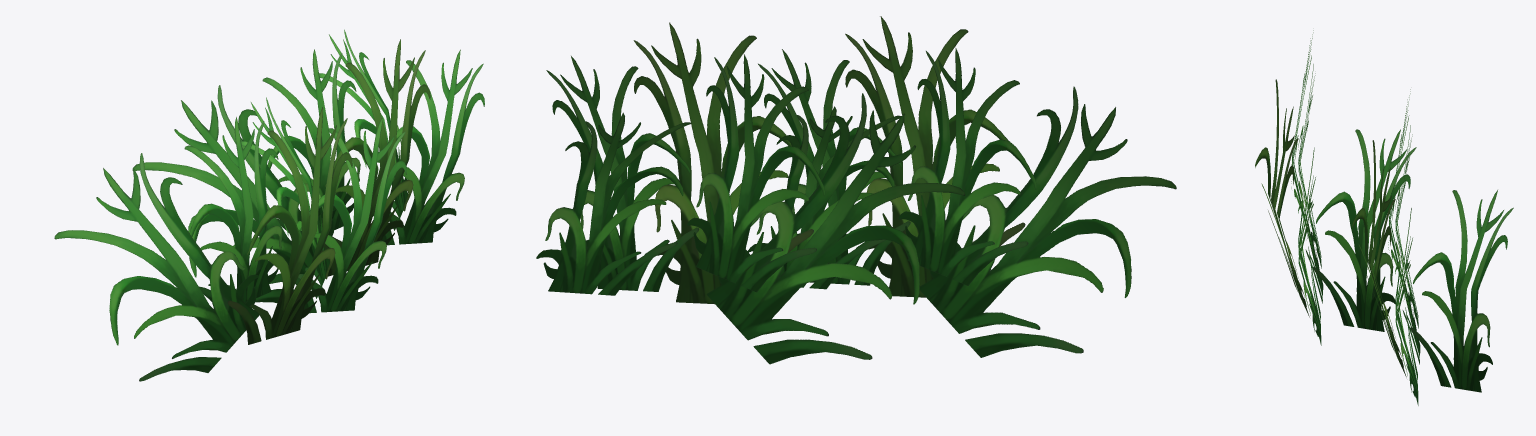
Rendered from 植被草03.FBX.
3 views of the same model, side by side, from view 1: azimuth 30°, elevation 25°; view 2: azimuth 150°, elevation 25°; view 3: azimuth 270°, elevation 25° (orthographic). The views are drawn at different scales.
Visible parts, largest first — view 1: 植被草03; view 2: 植被草03; view 3: 植被草03.
Boxes of the visible parts, <box> form: 植被草03: <box>54,29,484,381</box>; 植被草03: <box>536,16,1176,364</box>; 植被草03: <box>1255,30,1513,405</box>.
Size of the model in its own units: 255 by 139 by 117.
Materials: 2 (2 with a texture image).
